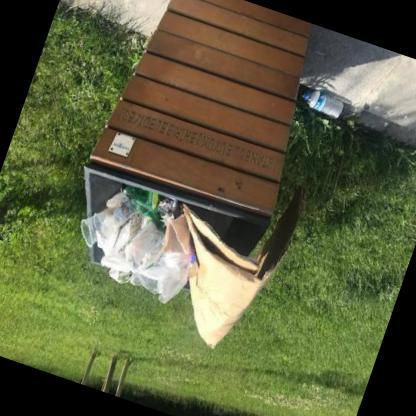Garbage: (55, 170, 288, 362), (154, 156, 318, 364), (62, 167, 214, 309), (92, 222, 202, 312), (86, 192, 138, 244), (123, 178, 177, 218), (135, 259, 157, 279)
